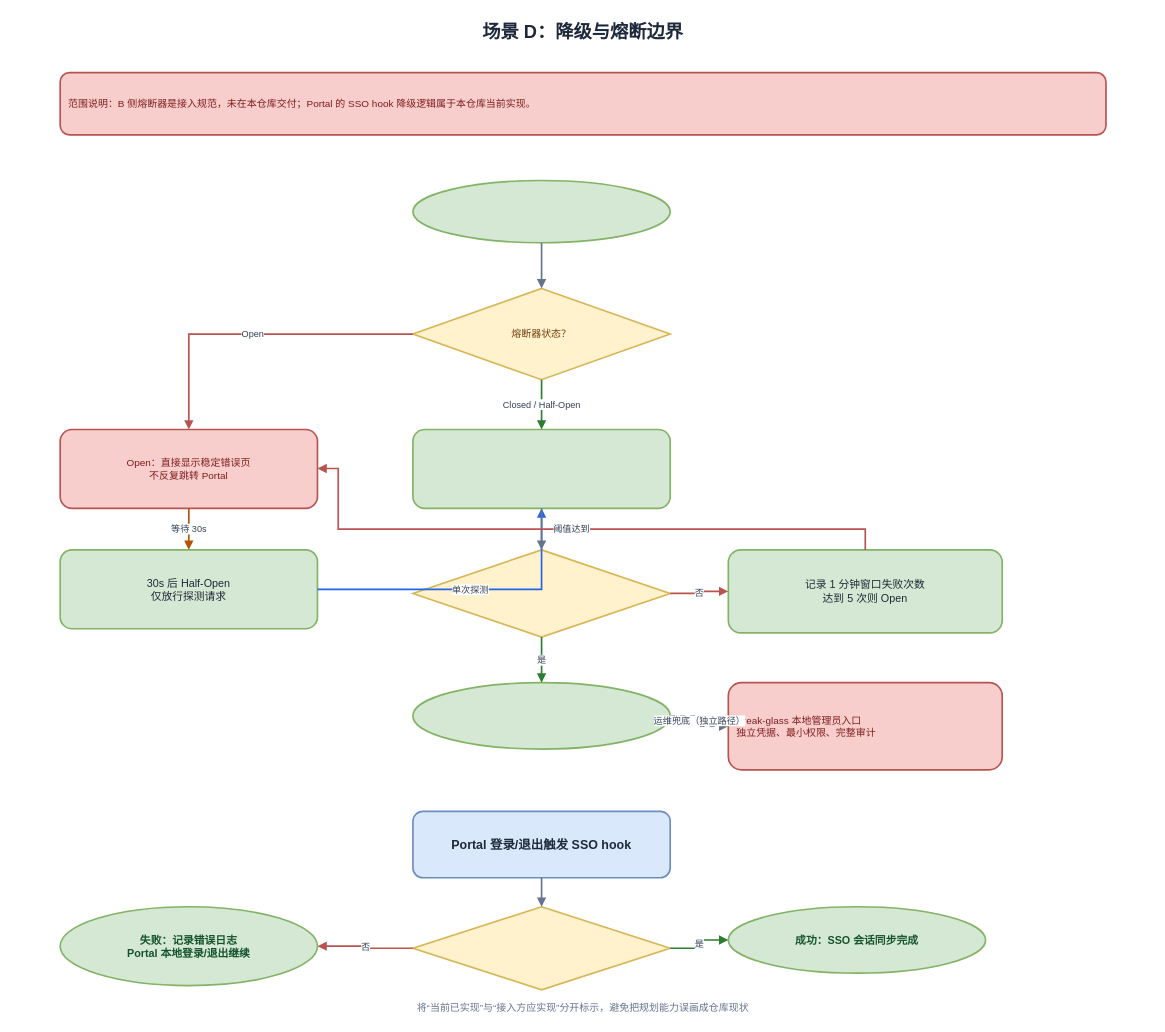
Some shapes in this 1165 by 1032 pixel diagram are drawn without their labels. The box of each missing label's shape, as (x1, y1, x2, y2) in pixels:
B 请求到达 且无本地会话: (412, 179, 671, 243)
Closed：调用 readiness / authorize 建议超时 2s: (412, 428, 671, 509)
hook 成功？: (412, 906, 671, 990)
调用成功？: (412, 549, 671, 637)
进入正常 SSO 授权流程: (412, 681, 671, 749)
